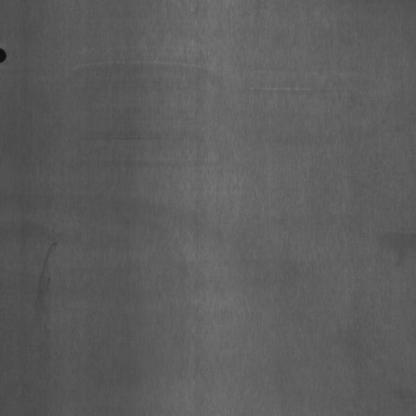punching_hole: (1, 44, 7, 62)
